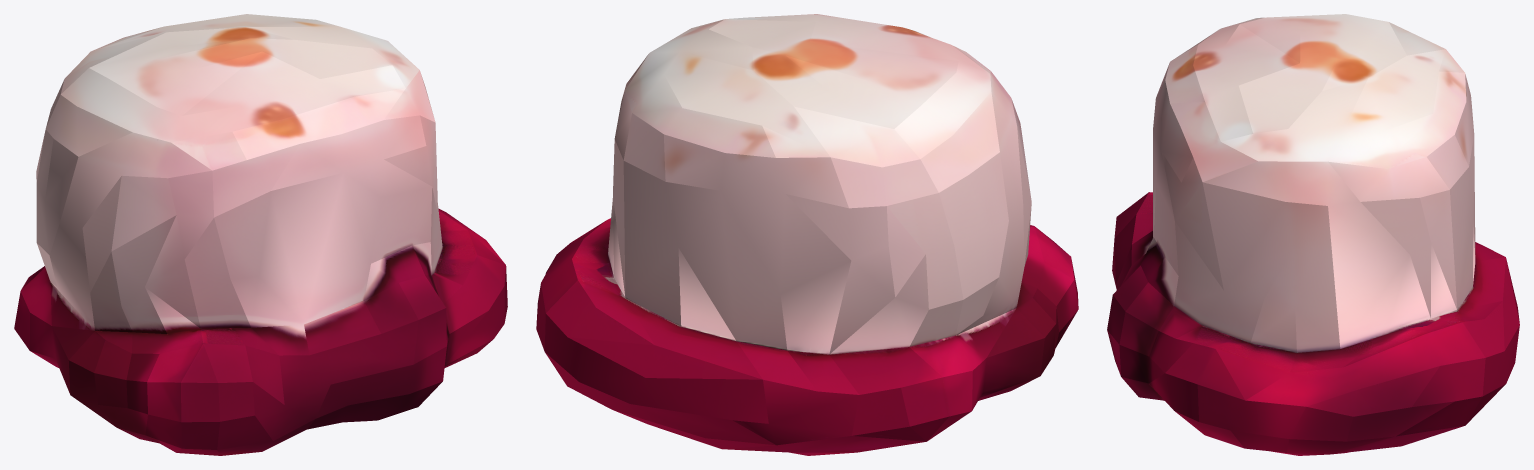
Rendered from tooth2_0.5.fbx.
The picture shows the model from 3 angles, left to right: view 1: azimuth 30°, elevation 25°; view 2: azimuth 150°, elevation 25°; view 3: azimuth 270°, elevation 25°; orthographic projection. The views are drawn at different scales.
Visible parts, largest first — view 1: temp; view 2: temp; view 3: temp.
Boxes of the visible parts, x1,y1,x2,y2 form: temp: (14, 14, 507, 455); temp: (536, 14, 1078, 455); temp: (1107, 14, 1519, 455).
Size of the model in its own units: 1.9 by 1.37 by 1.62.
Materials: 1 (1 with a texture image).
